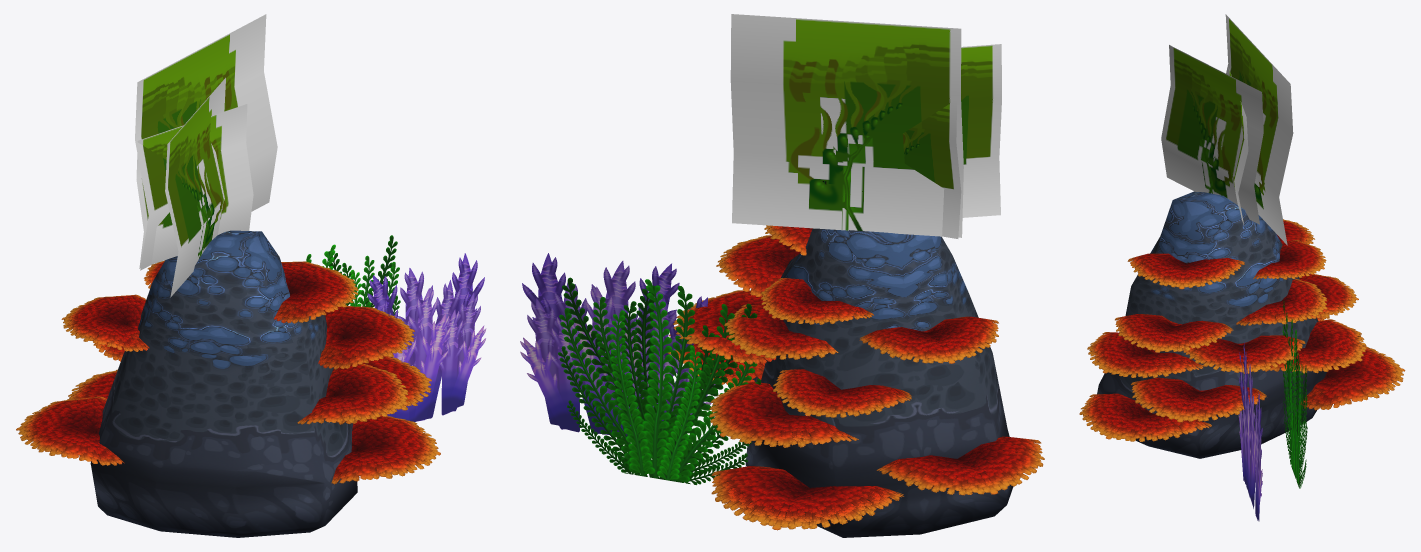
Rendered from CoralSet_02.FBX.
3 renders of one model, left to right at view 1: azimuth 30°, elevation 25°; view 2: azimuth 150°, elevation 25°; view 3: azimuth 270°, elevation 25°, orthographic. The views are drawn at different scales.
Parts seen in each view (by area): view 1: Box020, Plane331, Plane356, Plane329, Plane357, Plane355, Plane327; view 2: Plane356, Box020, Plane331, Plane327, Plane329, Plane357, Plane355; view 3: Plane331, Box020, Plane357, Plane356, Plane327, Plane329, Plane355.
Part boxes in pixels (x1=…): Box020: x1=90, y1=230, x2=357, y2=537; Plane331: x1=16, y1=260, x2=440, y2=484; Plane356: x1=135, y1=14, x2=277, y2=270; Plane329: x1=367, y1=253, x2=486, y2=421; Plane357: x1=165, y1=77, x2=225, y2=297; Plane355: x1=136, y1=104, x2=253, y2=268; Plane327: x1=306, y1=235, x2=400, y2=314; Plane356: x1=730, y1=14, x2=963, y2=237; Box020: x1=745, y1=228, x2=1013, y2=537; Plane331: x1=668, y1=225, x2=1044, y2=530; Plane327: x1=558, y1=277, x2=761, y2=485; Plane329: x1=520, y1=253, x2=715, y2=436; Plane357: x1=813, y1=44, x2=1001, y2=228; Plane355: x1=902, y1=99, x2=961, y2=238; Plane331: x1=1079, y1=219, x2=1405, y2=441; Box020: x1=1097, y1=191, x2=1326, y2=458; Plane357: x1=1161, y1=45, x2=1263, y2=224; Plane356: x1=1225, y1=14, x2=1293, y2=245; Plane327: x1=1282, y1=301, x2=1307, y2=488; Plane329: x1=1238, y1=342, x2=1262, y2=521; Plane355: x1=1228, y1=68, x2=1248, y2=225.
Bounding box in the file's own units: 496 × 439 × 358.
